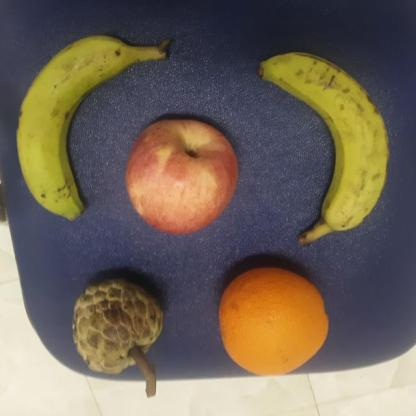annona: (71, 276, 162, 376)
apple: (120, 115, 250, 238)
banana: (16, 37, 178, 225), (258, 50, 395, 244)
orange: (218, 264, 331, 378)
